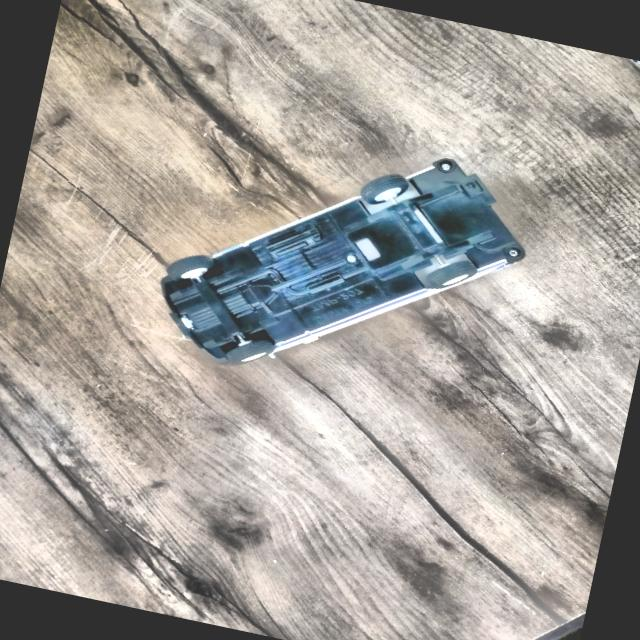Ambulance: (138, 100, 552, 437)
